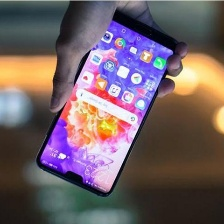phone: (34, 10, 181, 201)
